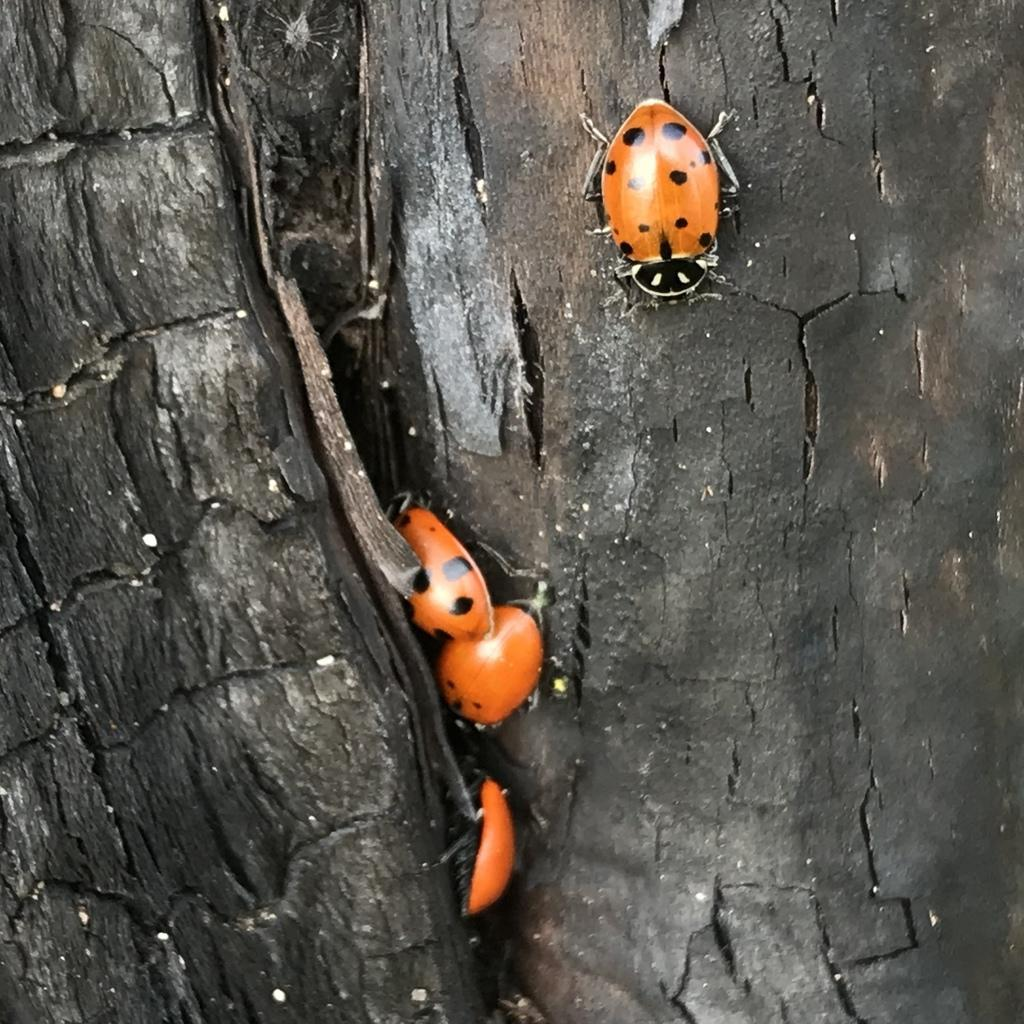ladybug: (569, 79, 764, 324), (426, 566, 576, 749), (381, 474, 511, 659), (424, 754, 551, 939)
